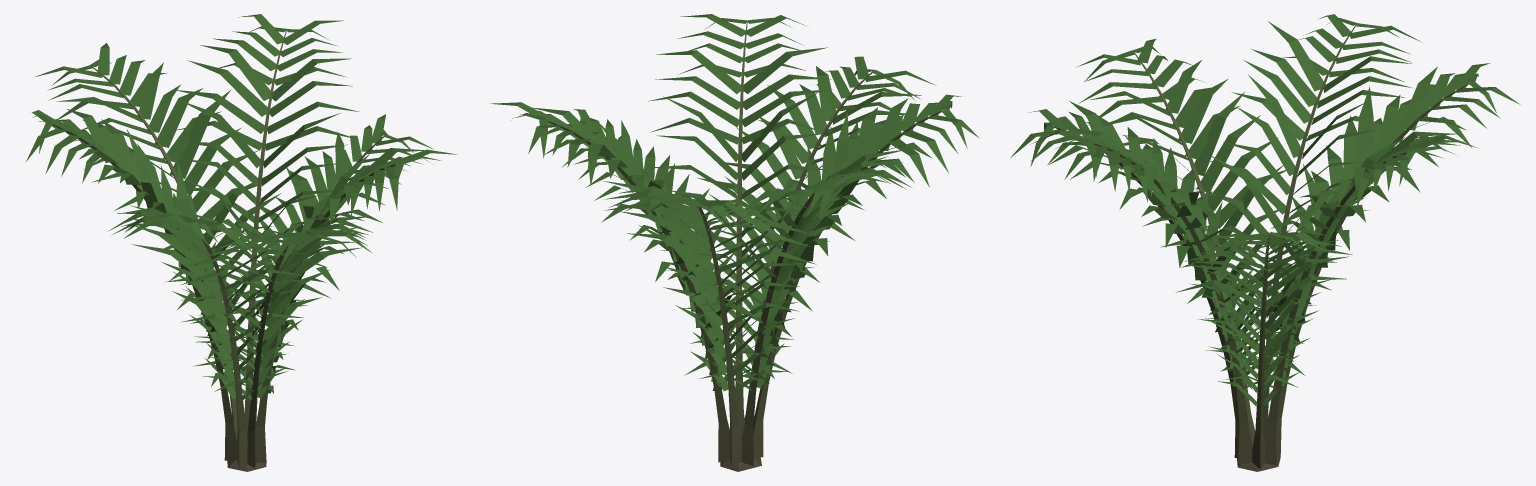
Rendered from nipa-palm-young.glb.
The picture shows the model from 3 angles, left to right: view 1: azimuth 30°, elevation 25°; view 2: azimuth 150°, elevation 25°; view 3: azimuth 270°, elevation 25°; orthographic projection. The views are drawn at different scales.
Visible parts, largest first — view 1: nipa_palm; view 2: nipa_palm; view 3: nipa_palm.
Part boxes in pixels (left/top/right/bottom): nipa_palm: left=26, top=14, right=457, bottom=471; nipa_palm: left=490, top=14, right=979, bottom=471; nipa_palm: left=1010, top=14, right=1520, bottom=471.
Bounding box in the file's own units: 2.79 × 2.6 × 3.2.
